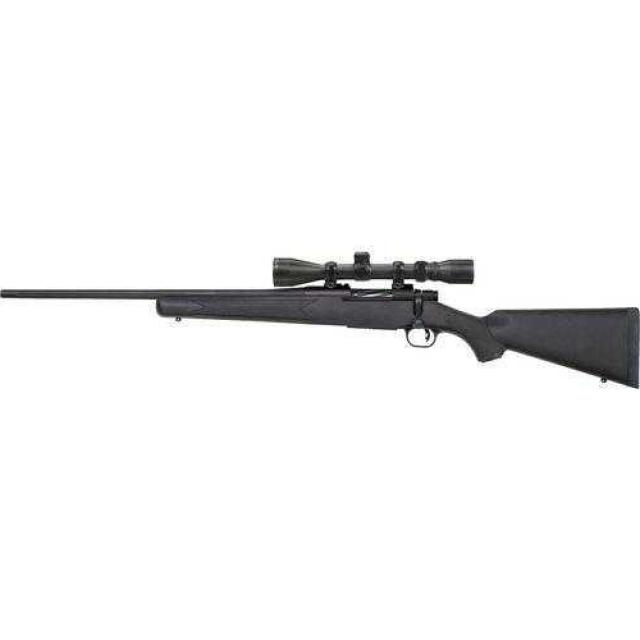heavyweapon: (1, 220, 640, 418)
